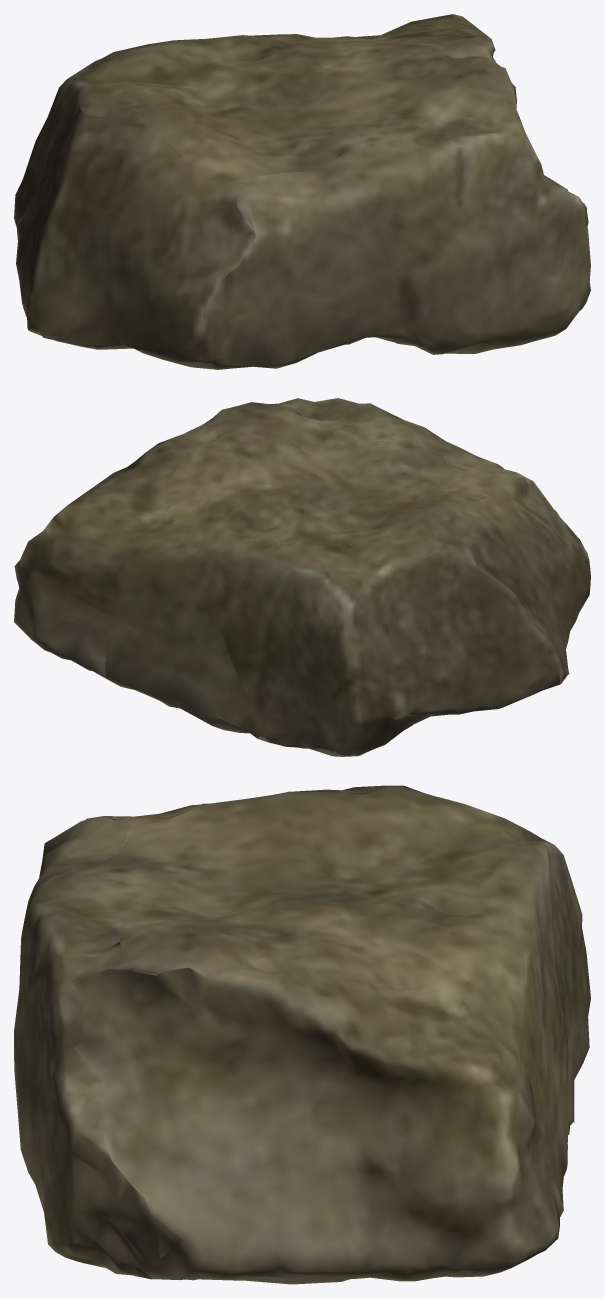
File: rock_moss_set_02_a.gltf.lod.glb
The picture shows the model from 3 angles, top to bottom: view 1: azimuth 30°, elevation 25°; view 2: azimuth 150°, elevation 25°; view 3: azimuth 270°, elevation 25°; orthographic projection. The views are drawn at different scales.
Parts seen in each view (by area): view 1: rock_moss_set_02_rock07; view 2: rock_moss_set_02_rock07; view 3: rock_moss_set_02_rock07.
Boxes of the visible parts, x1,y1,x2,y2 form: rock_moss_set_02_rock07: [14, 14, 590, 369]; rock_moss_set_02_rock07: [14, 398, 590, 756]; rock_moss_set_02_rock07: [14, 785, 590, 1284].
Bounding box in the file's own units: 1.69 × 0.743 × 1.22.
Materials: 1 (1 with a texture image).
